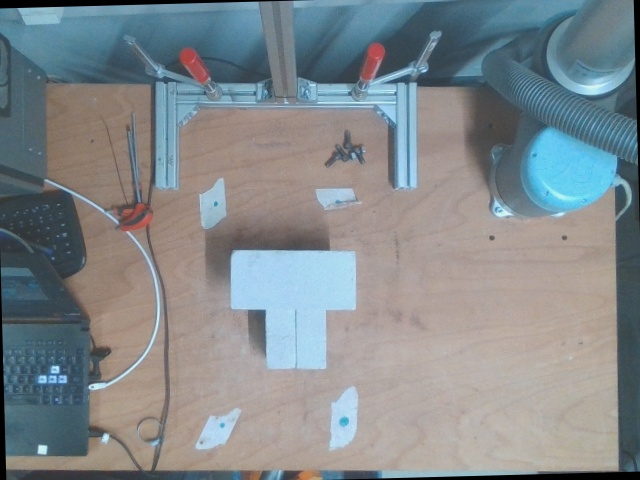brick: (229, 250, 354, 308)
